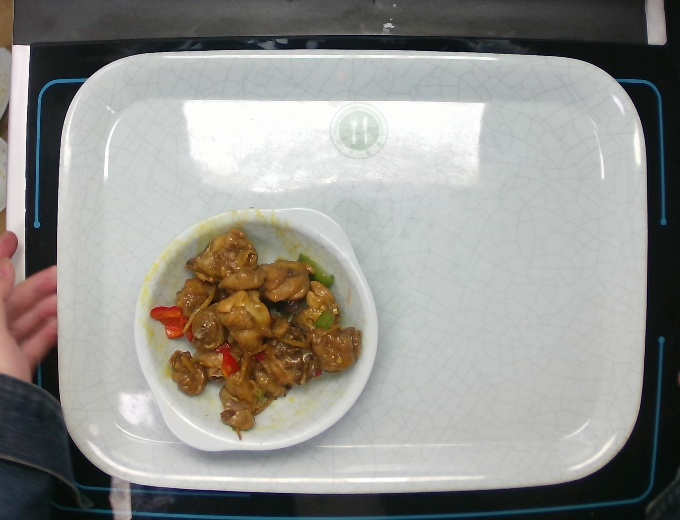JYsf-Shuang_Er_Wan: (134, 197, 391, 462)
